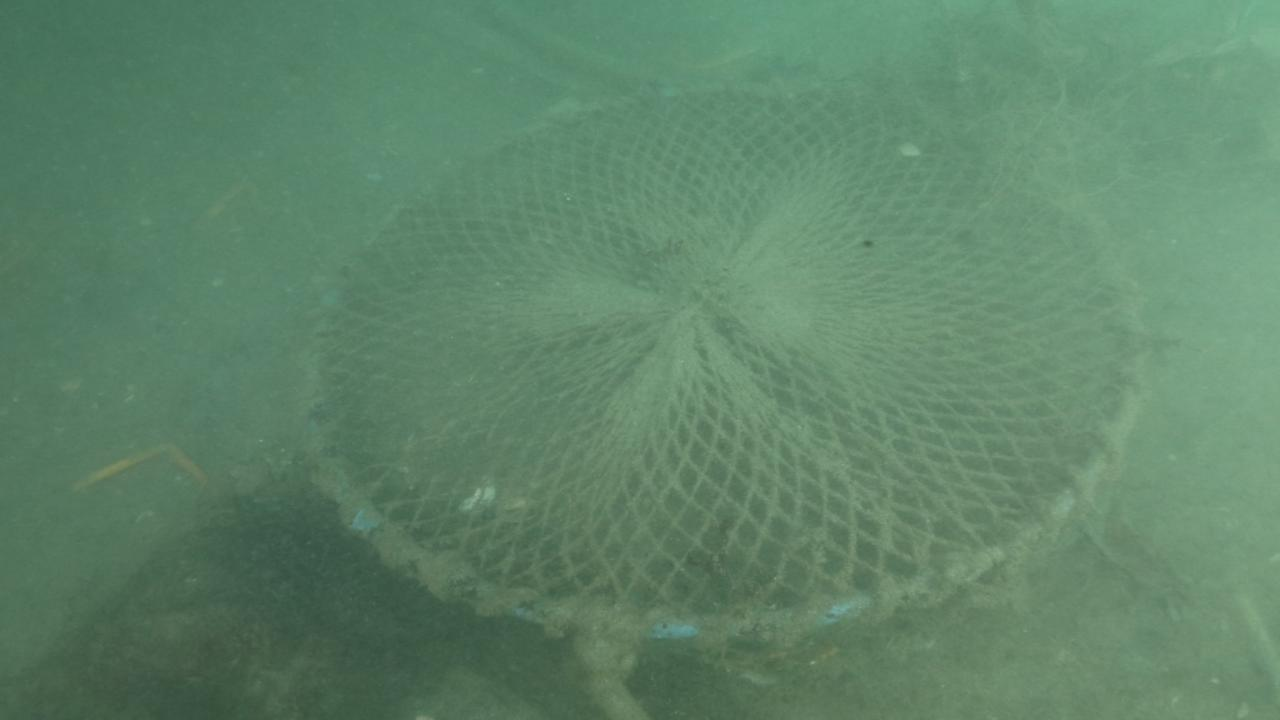bundle of ropes: (539, 618, 670, 718)
circular fish trap: (294, 76, 1156, 636)
